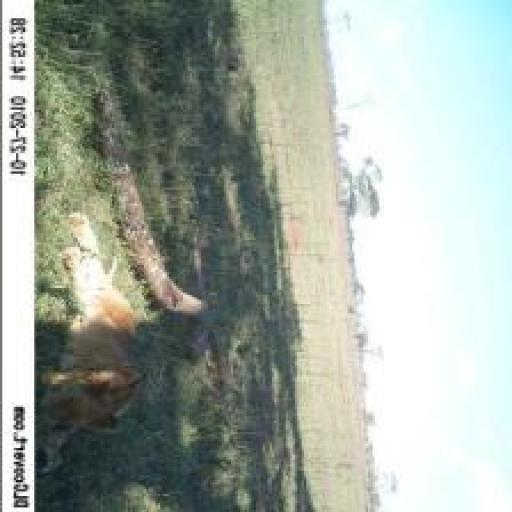lion: (37, 197, 145, 489)
